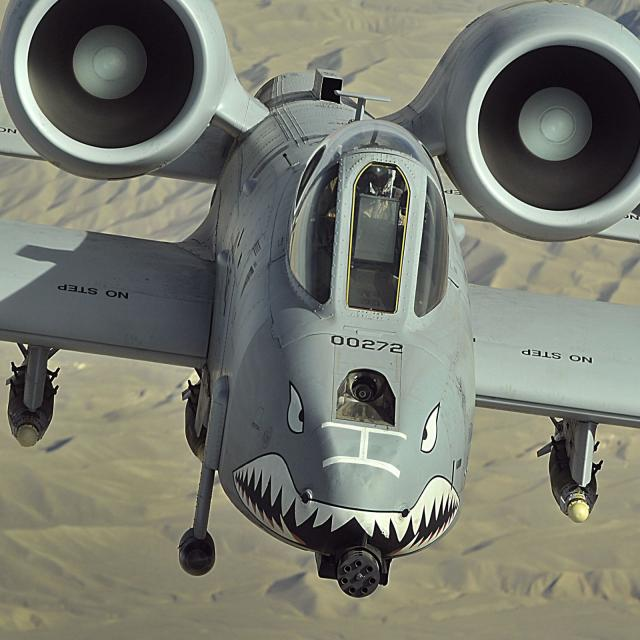A10: (2, 0, 640, 639)
